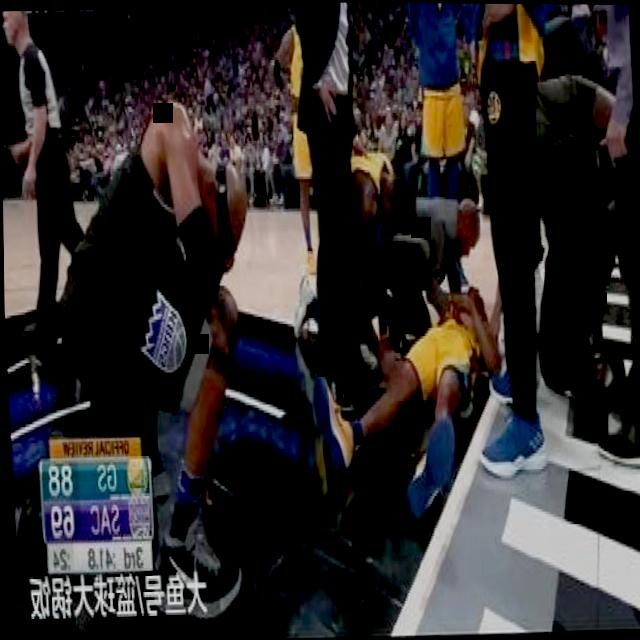Fall-Detected: (296, 270, 514, 516)
